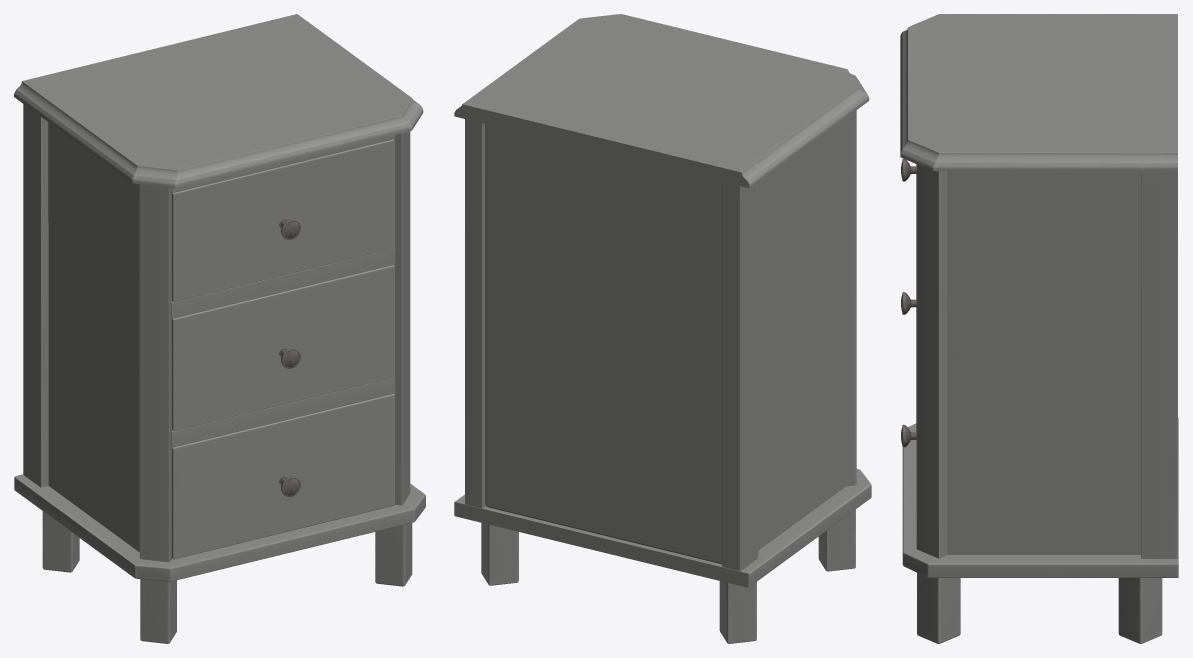
File: abo-B07DBDPMWN.glb
3 views of the same model, side by side, from view 1: azimuth 30°, elevation 25°; view 2: azimuth 150°, elevation 25°; view 3: azimuth 270°, elevation 25° (orthographic). The views are drawn at different scales.
Bounding box in the file's own units: 0.435 × 0.68 × 0.348.
Materials: 1 (1 with a texture image).
